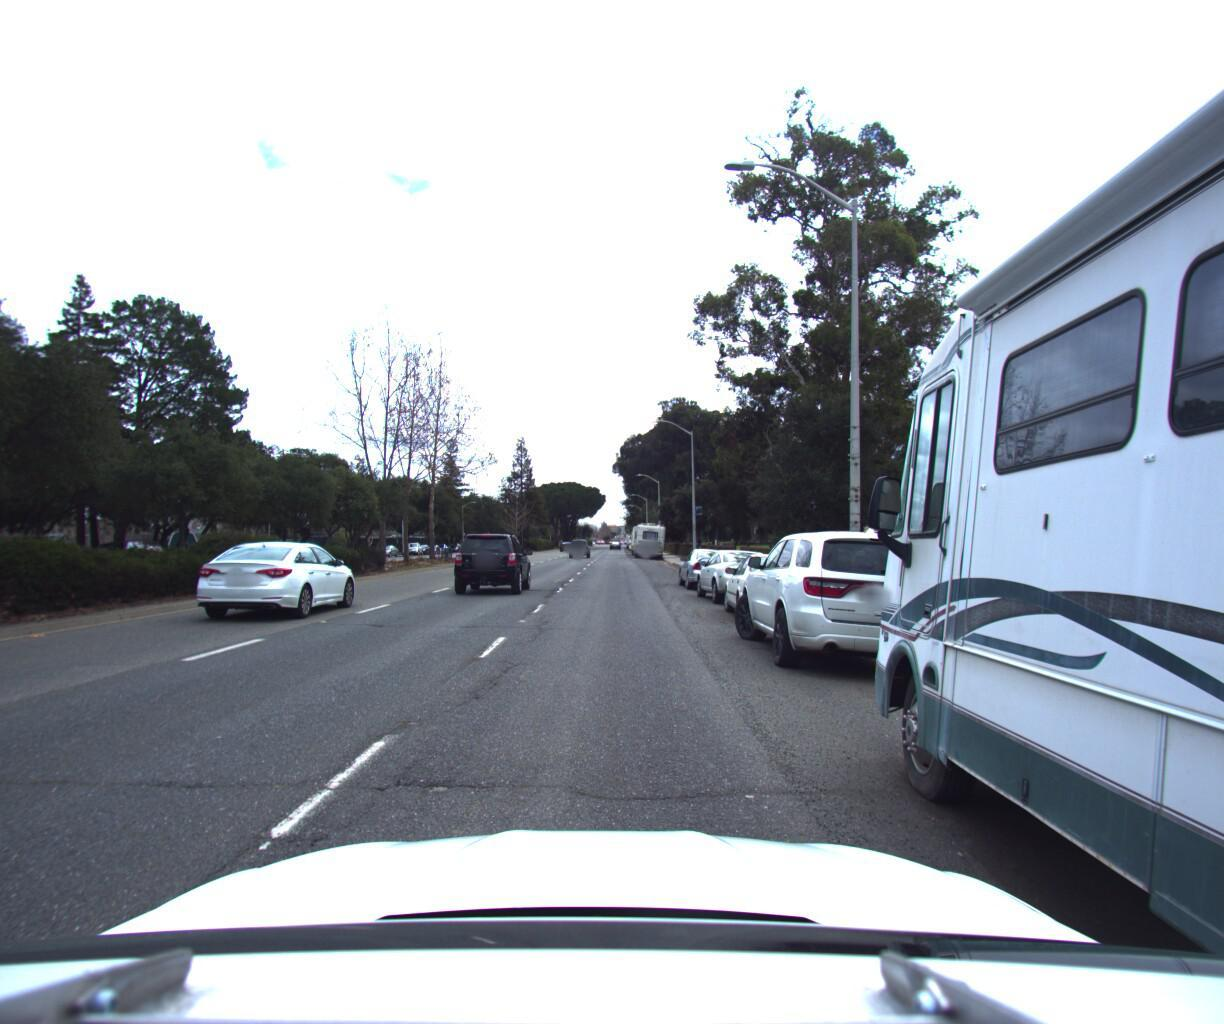car: (714, 516, 979, 687), (190, 533, 367, 620), (711, 544, 833, 626), (686, 540, 784, 601), (453, 526, 533, 591), (670, 539, 742, 587), (571, 528, 592, 547)
other_vehicle: (629, 513, 665, 552), (627, 514, 655, 549)
